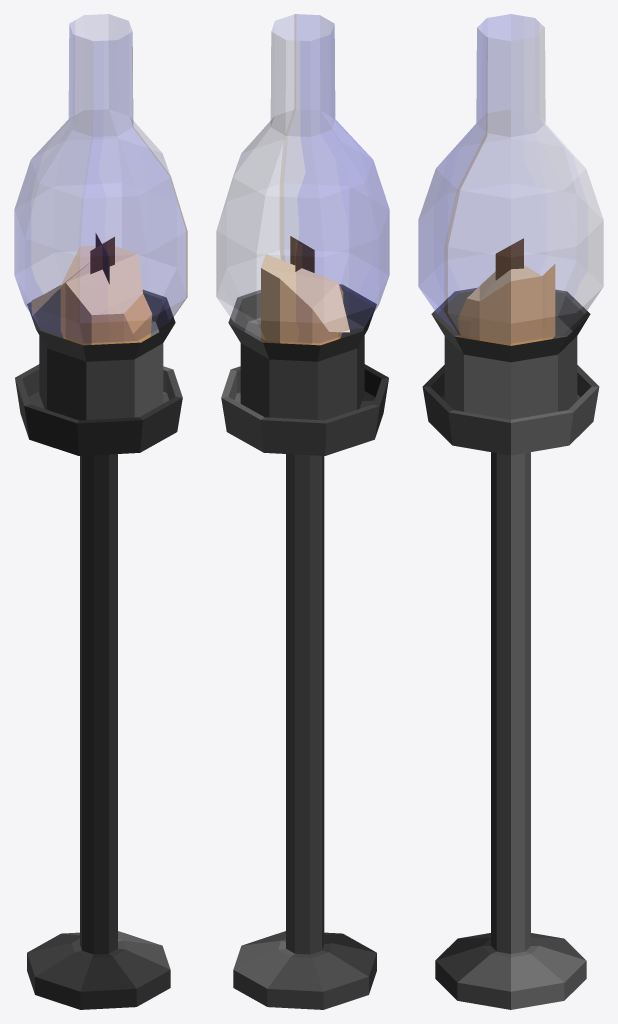
Rendered from spent_light_997x15.gltf.
3 renders of one model, left to right at view 1: azimuth 30°, elevation 25°; view 2: azimuth 150°, elevation 25°; view 3: azimuth 270°, elevation 25°, orthographic.
Parts seen in each view (by area): view 1: spent_light_997x15; view 2: spent_light_997x15; view 3: spent_light_997x15.
Part boxes in pixels (left/top/right/bottom): spent_light_997x15: left=14, top=14, right=187, bottom=1009; spent_light_997x15: left=216, top=14, right=389, bottom=1009; spent_light_997x15: left=418, top=14, right=603, bottom=1009.
Size of the model in its own units: 0.3817 by 2.27 by 0.401.
Materials: 2 (2 with a texture image).
